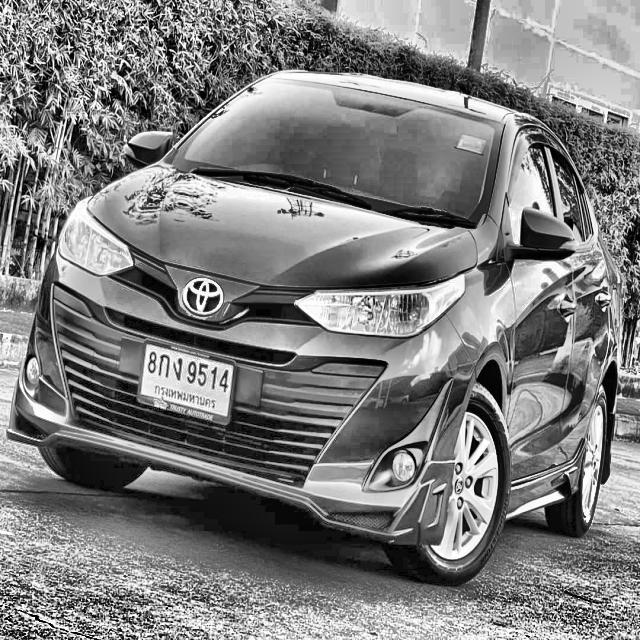license-plate: (134, 335, 241, 424)
